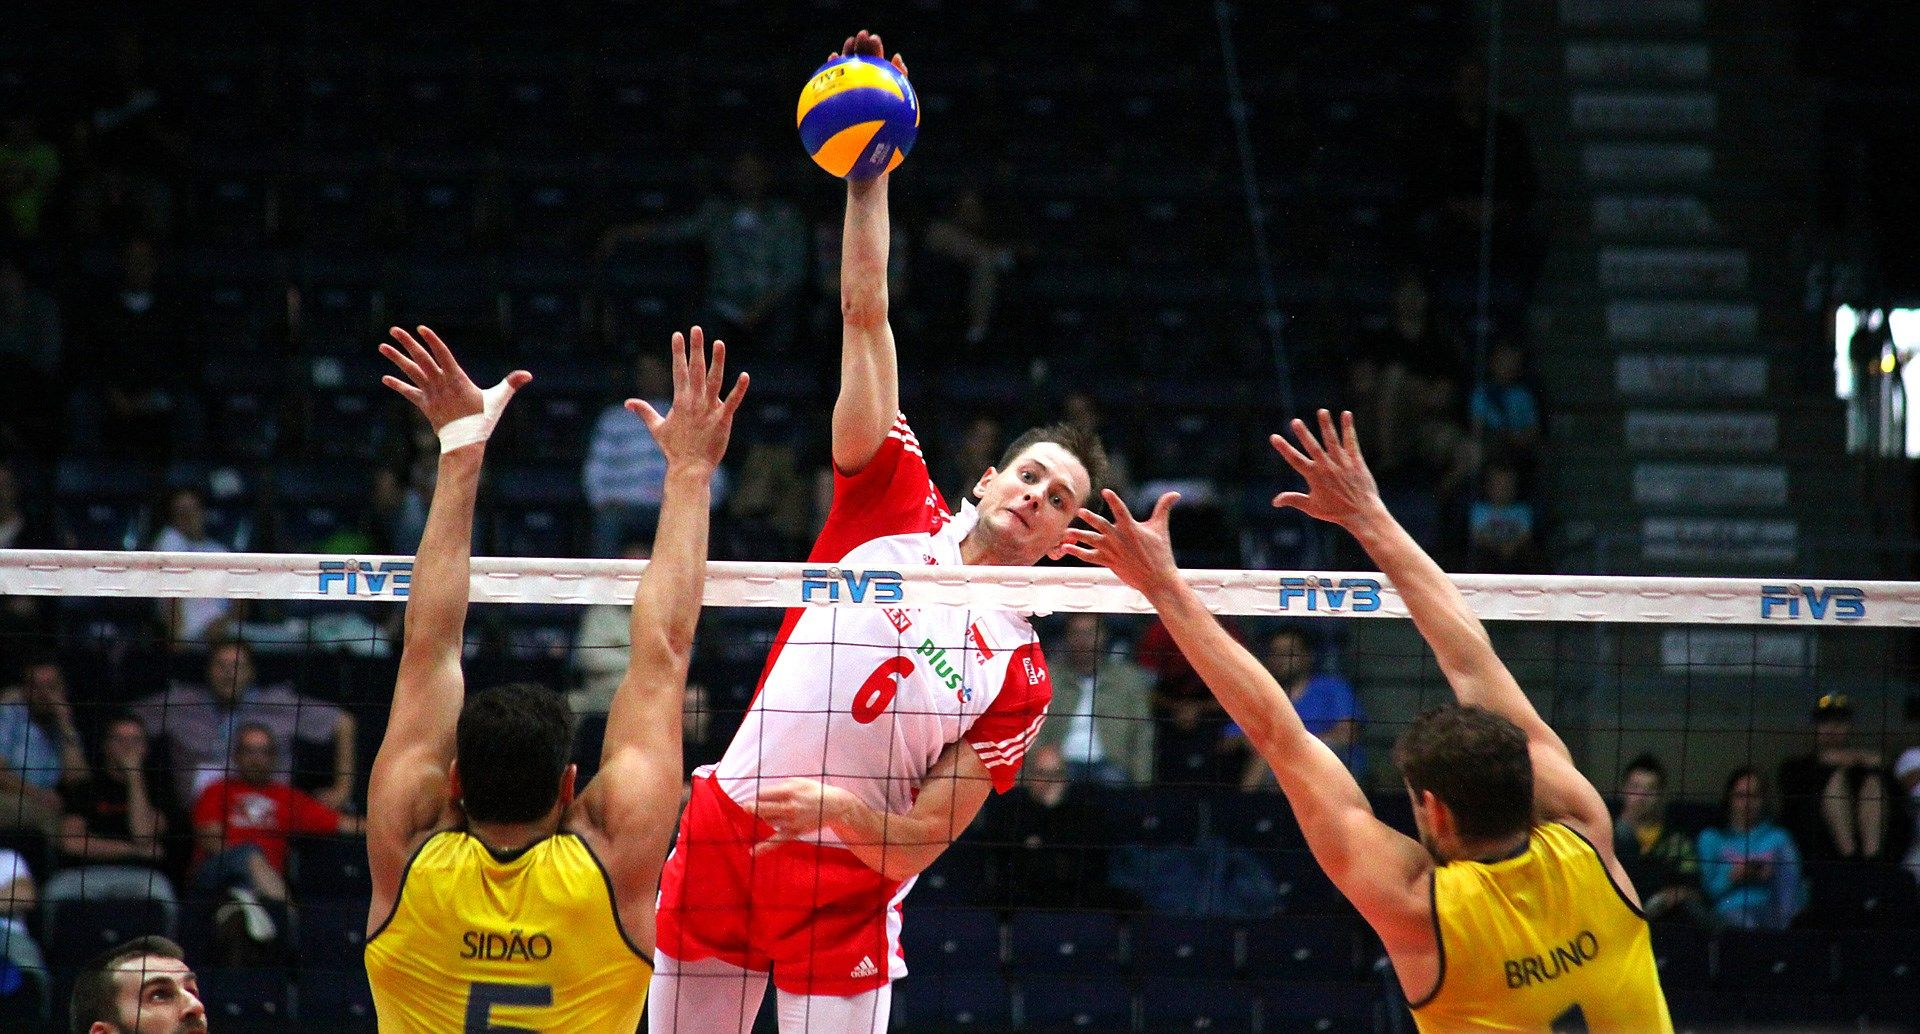ball: (796, 56, 922, 182)
